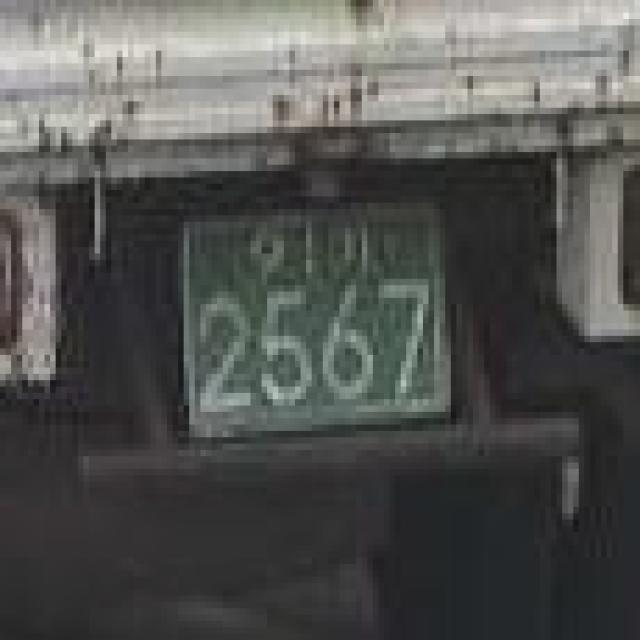illegal_plate: (175, 189, 460, 457)
